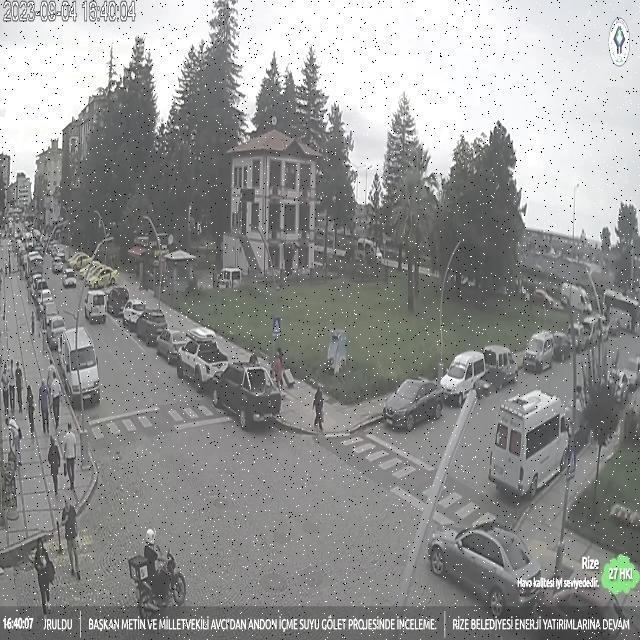Car: (419, 515, 554, 617), (210, 361, 280, 428), (384, 378, 446, 431), (177, 336, 229, 388), (475, 345, 519, 393), (155, 327, 192, 362), (136, 308, 169, 344), (122, 298, 147, 326), (44, 315, 66, 346)
Van: (486, 388, 578, 499), (58, 334, 103, 407), (439, 350, 489, 406), (84, 290, 110, 323)
